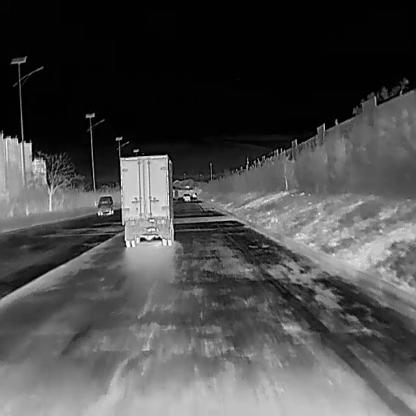car: (96, 195, 113, 215), (183, 192, 190, 200), (191, 191, 196, 197)
truck: (119, 153, 177, 247)
